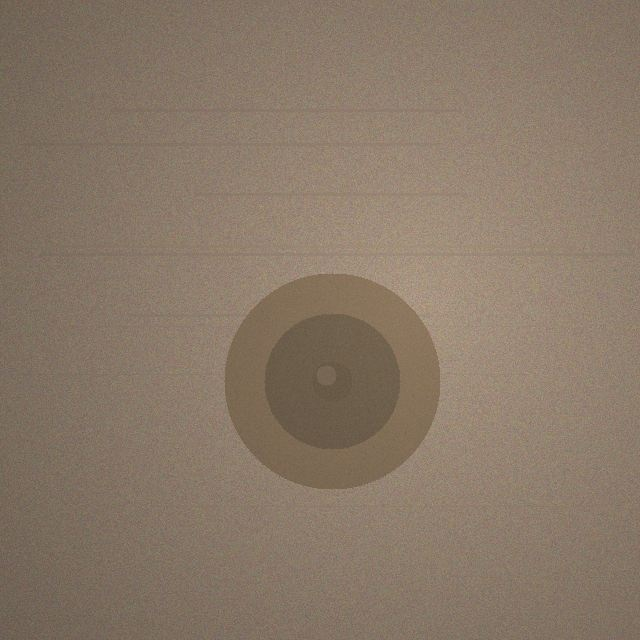good: (224, 273, 440, 489)
